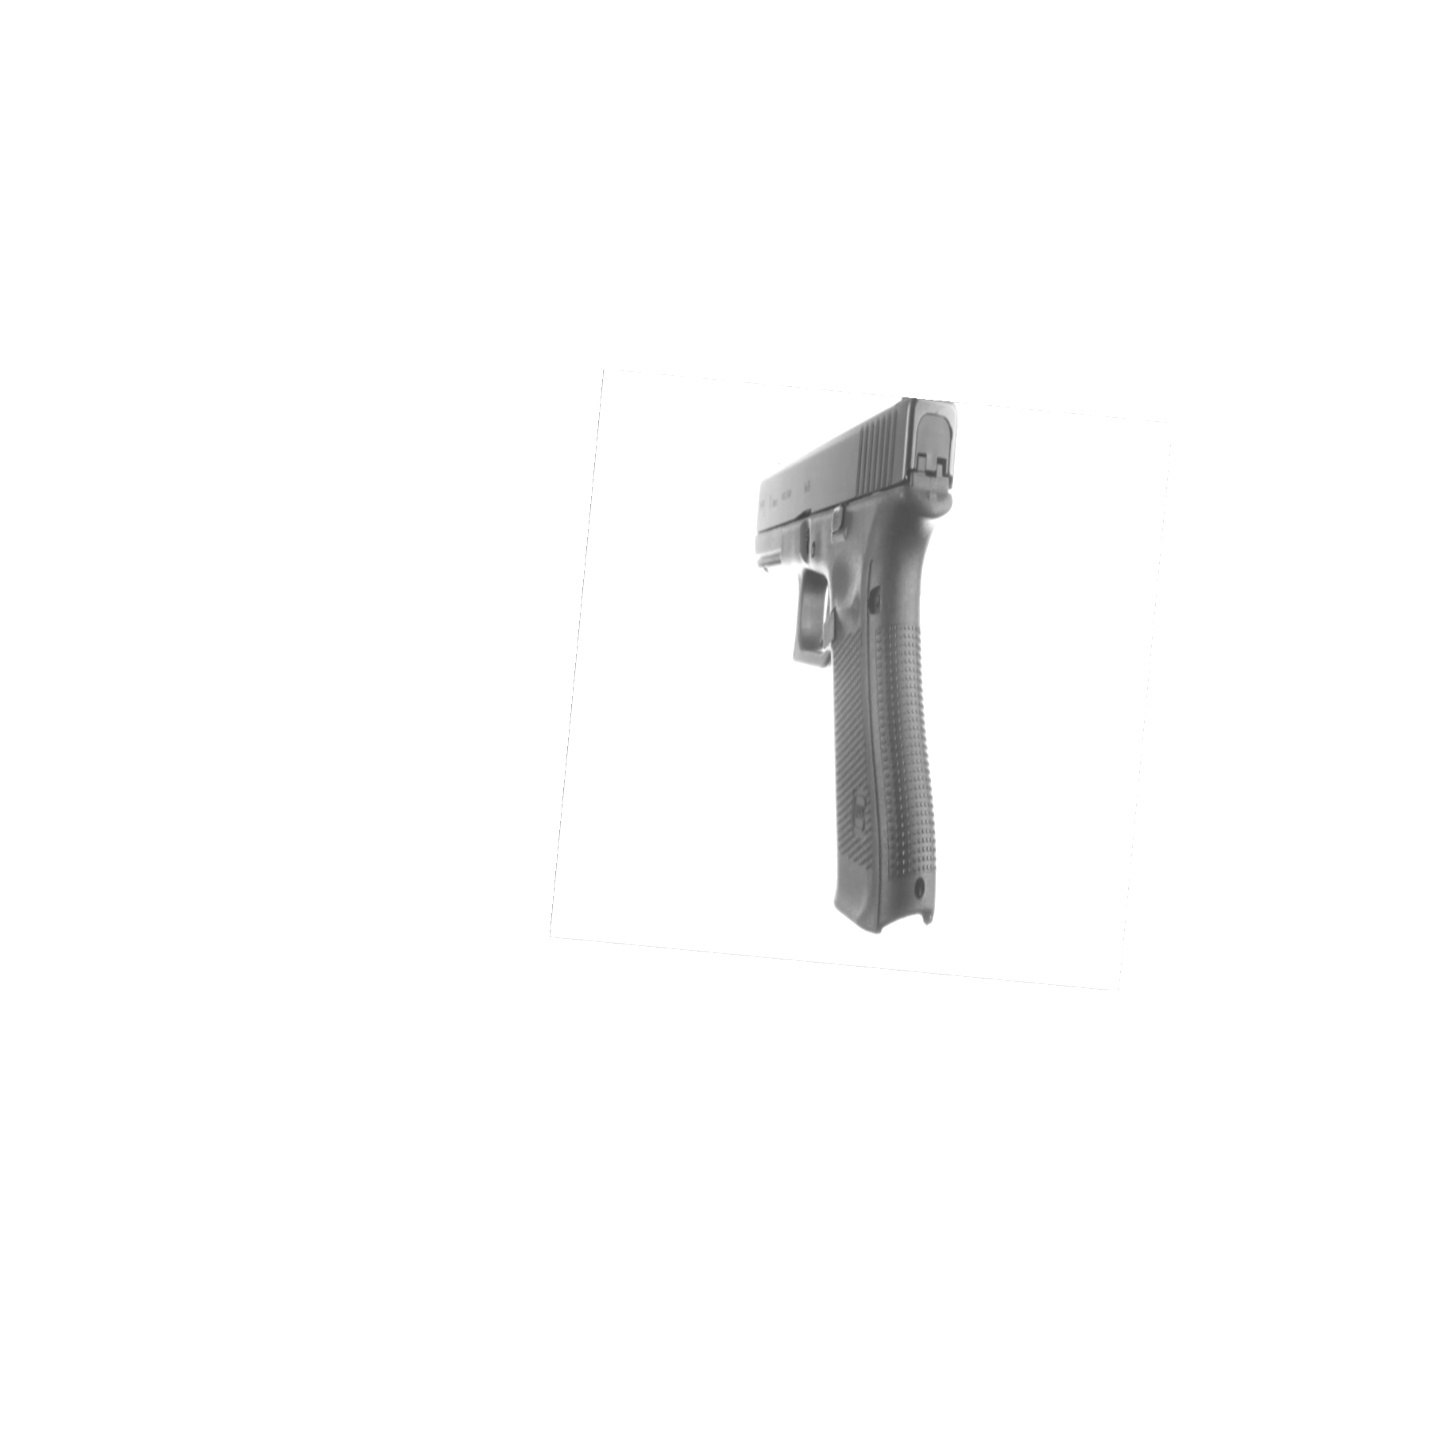gun: (751, 386, 965, 942)
